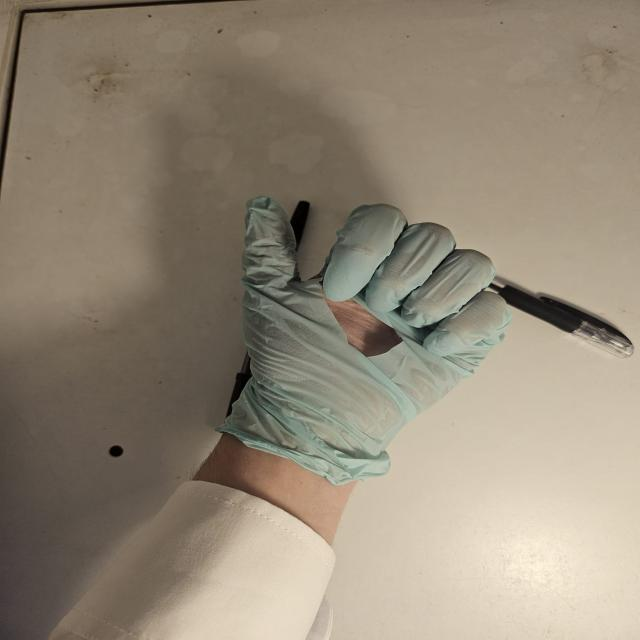gloves_damaged: (212, 188, 515, 486)
